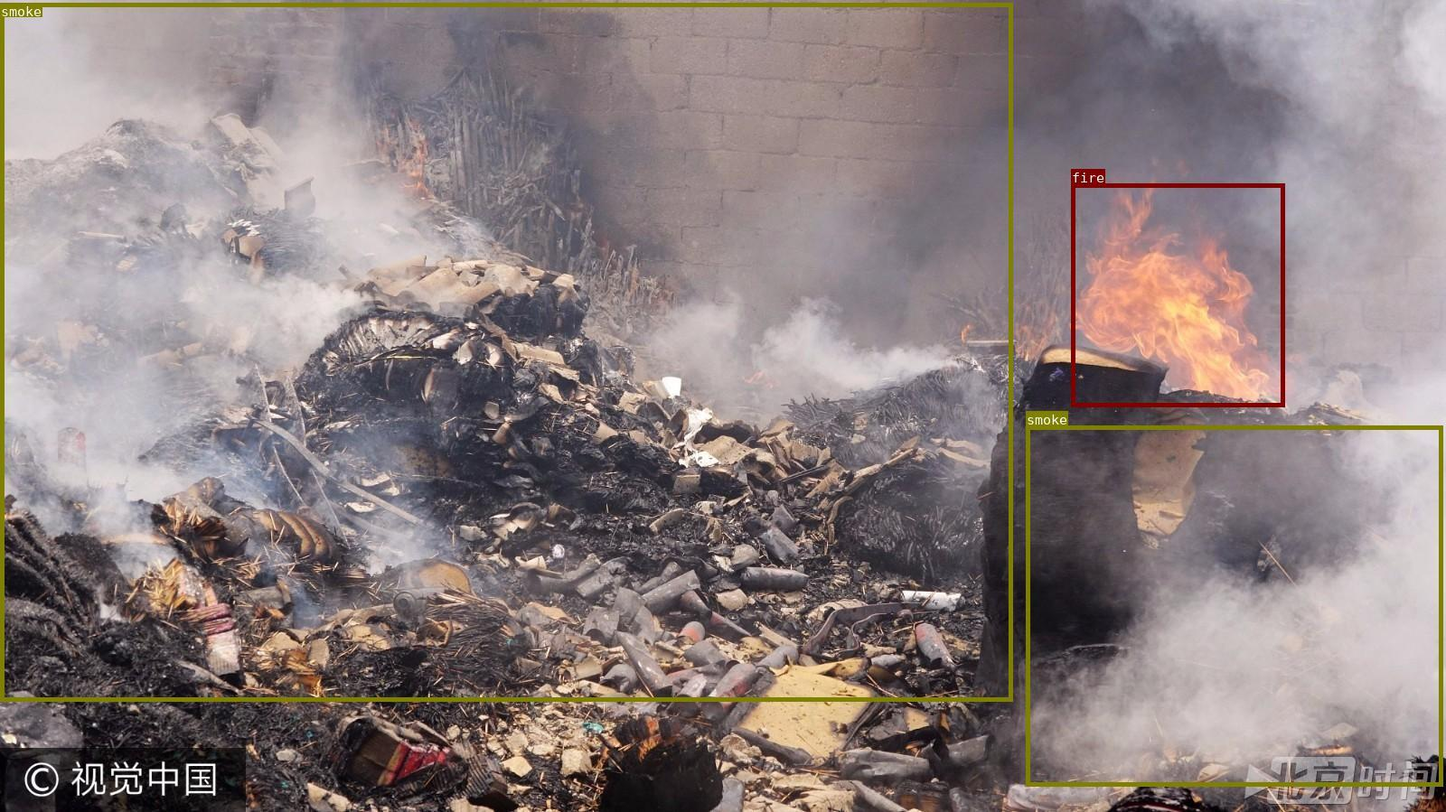fire: (1071, 183, 1284, 406)
smoke: (0, 2, 1011, 700), (1026, 425, 1442, 785)
